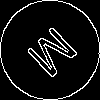M: (25, 25, 87, 87)
